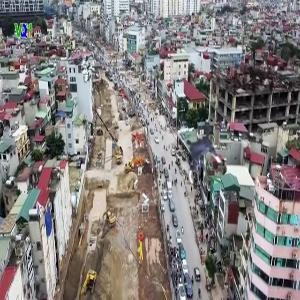drone: (173, 126, 234, 187)
